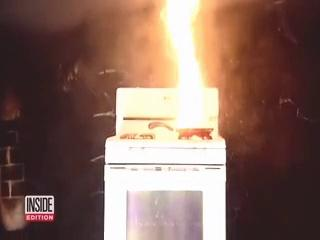Fire: (158, 1, 222, 134)
